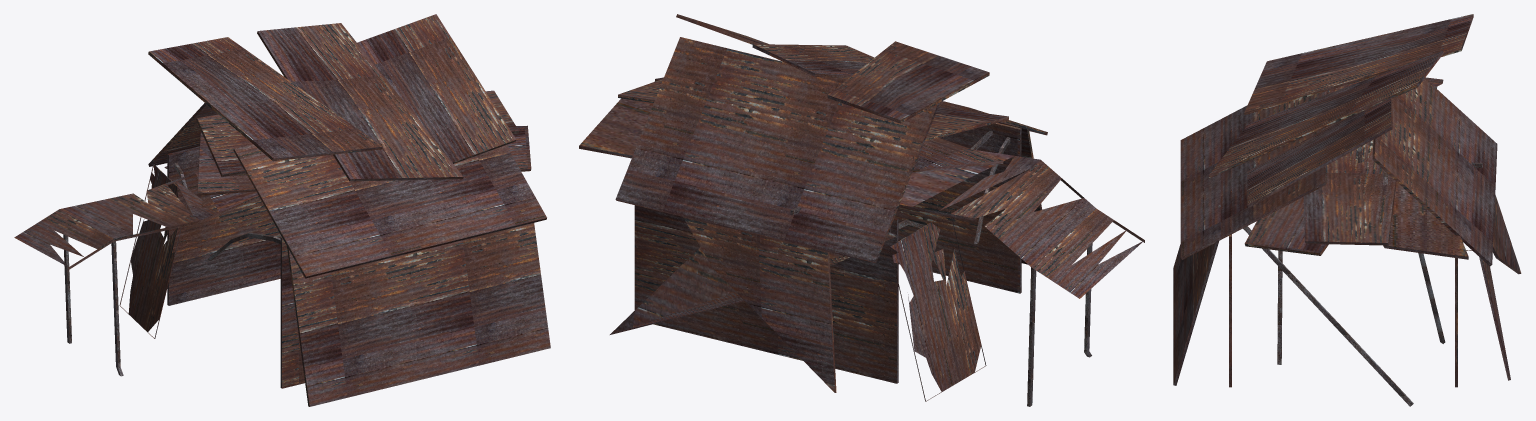
Rendered from Hittt.fbx.
3 renders of one model, left to right at view 1: azimuth 30°, elevation 25°; view 2: azimuth 150°, elevation 25°; view 3: azimuth 270°, elevation 25°, orthographic. The views are drawn at different scales.
Visible parts, largest first — view 1: pCube68, pCube69; view 2: pCube68, pCube69; view 3: pCube68, pCube69.
Part boxes in pixels (box(x1,y1,x2,y2)): pCube68: box(14, 14, 550, 406); pCube69: box(63, 163, 465, 376); pCube68: box(579, 14, 1144, 401); pCube69: box(790, 130, 1092, 406); pCube68: box(1173, 14, 1521, 387); pCube69: box(1218, 87, 1482, 406).
Size of the model in its own units: 25.12 by 14.26 by 16.66.
3 materials, 3 textured.
